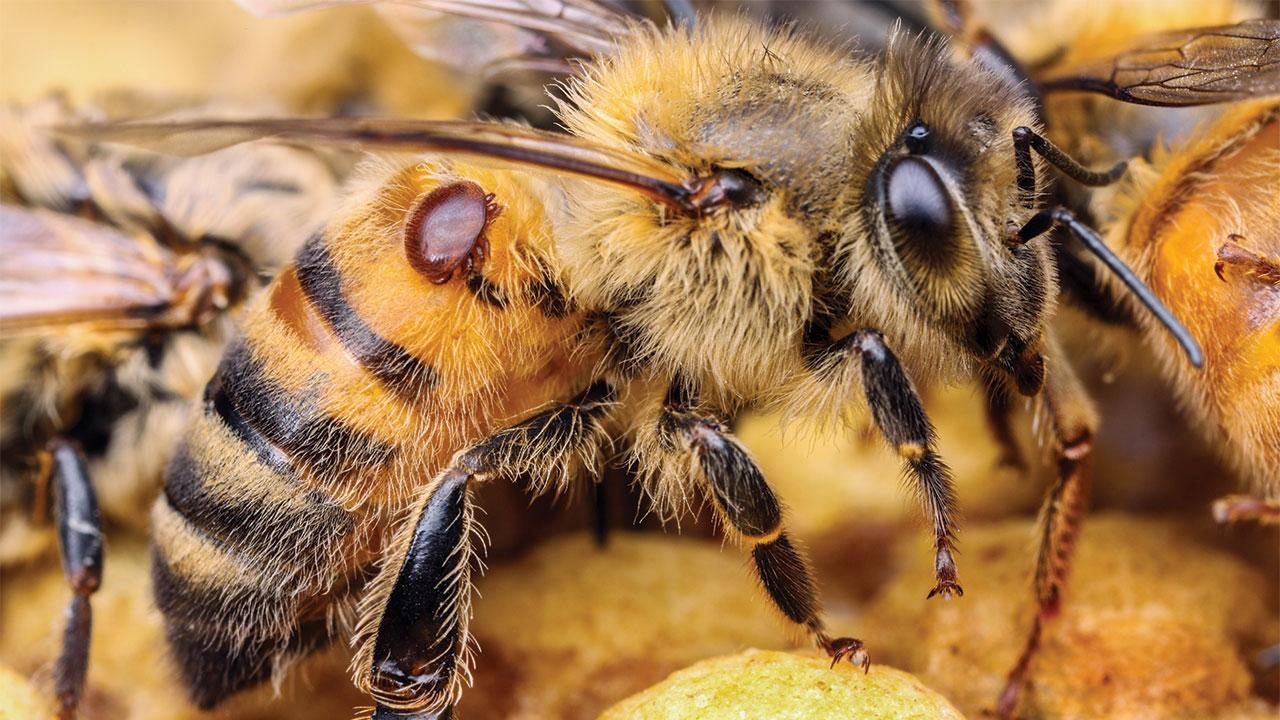worker-bee: (82, 0, 1203, 718)
